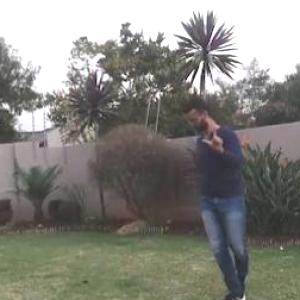land_hand: (195, 124, 229, 154)
